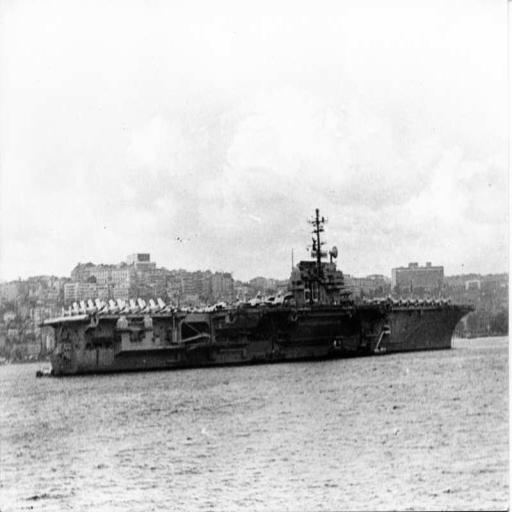Portanaves: (37, 198, 480, 385)
